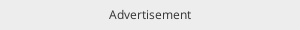fake_button: (96, 3, 201, 26)
